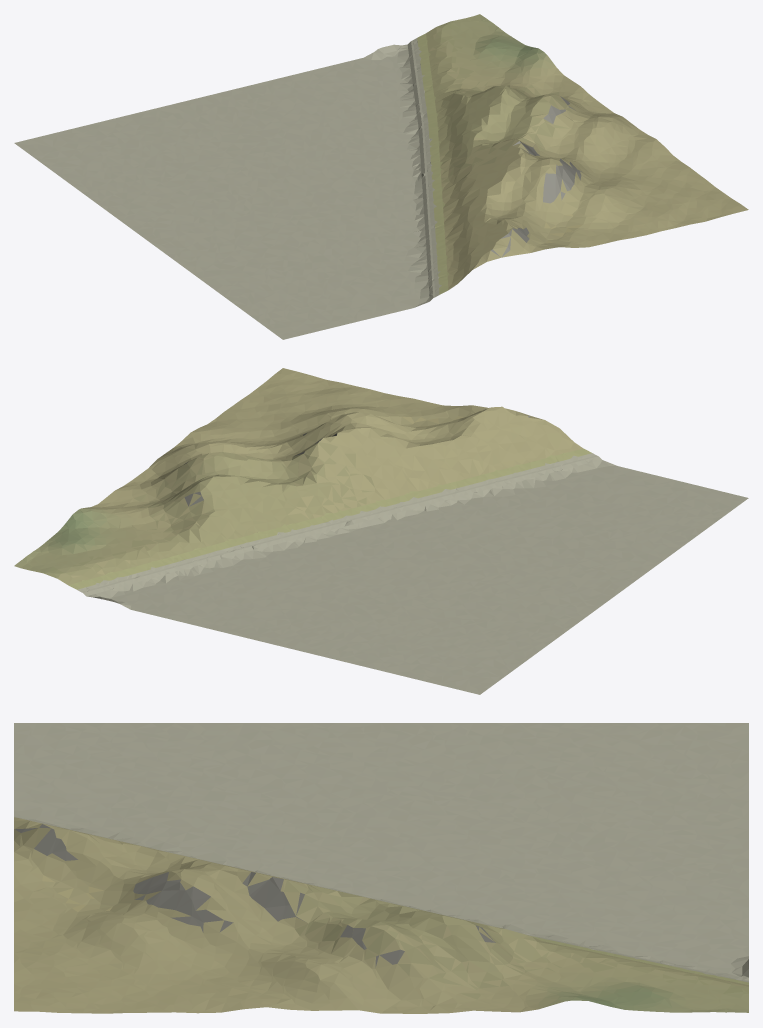
The model's file is Ground_-1_0.glb.
3 renders of one model, top to bottom at view 1: azimuth 30°, elevation 25°; view 2: azimuth 150°, elevation 25°; view 3: azimuth 270°, elevation 25°, orthographic. The views are drawn at different scales.
Visible parts, largest first — view 1: Ground_-1_0; view 2: Ground_-1_0; view 3: Ground_-1_0.
Part boxes in pixels (box(x1,y1,x2,y2)): Ground_-1_0: box(14, 14, 748, 339); Ground_-1_0: box(14, 368, 748, 694); Ground_-1_0: box(14, 723, 748, 1013).
Bounding box in the file's own units: 768 × 79.73 × 768.
